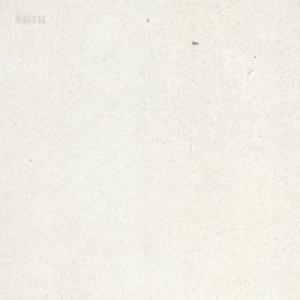Nail: (192, 39, 198, 44)
